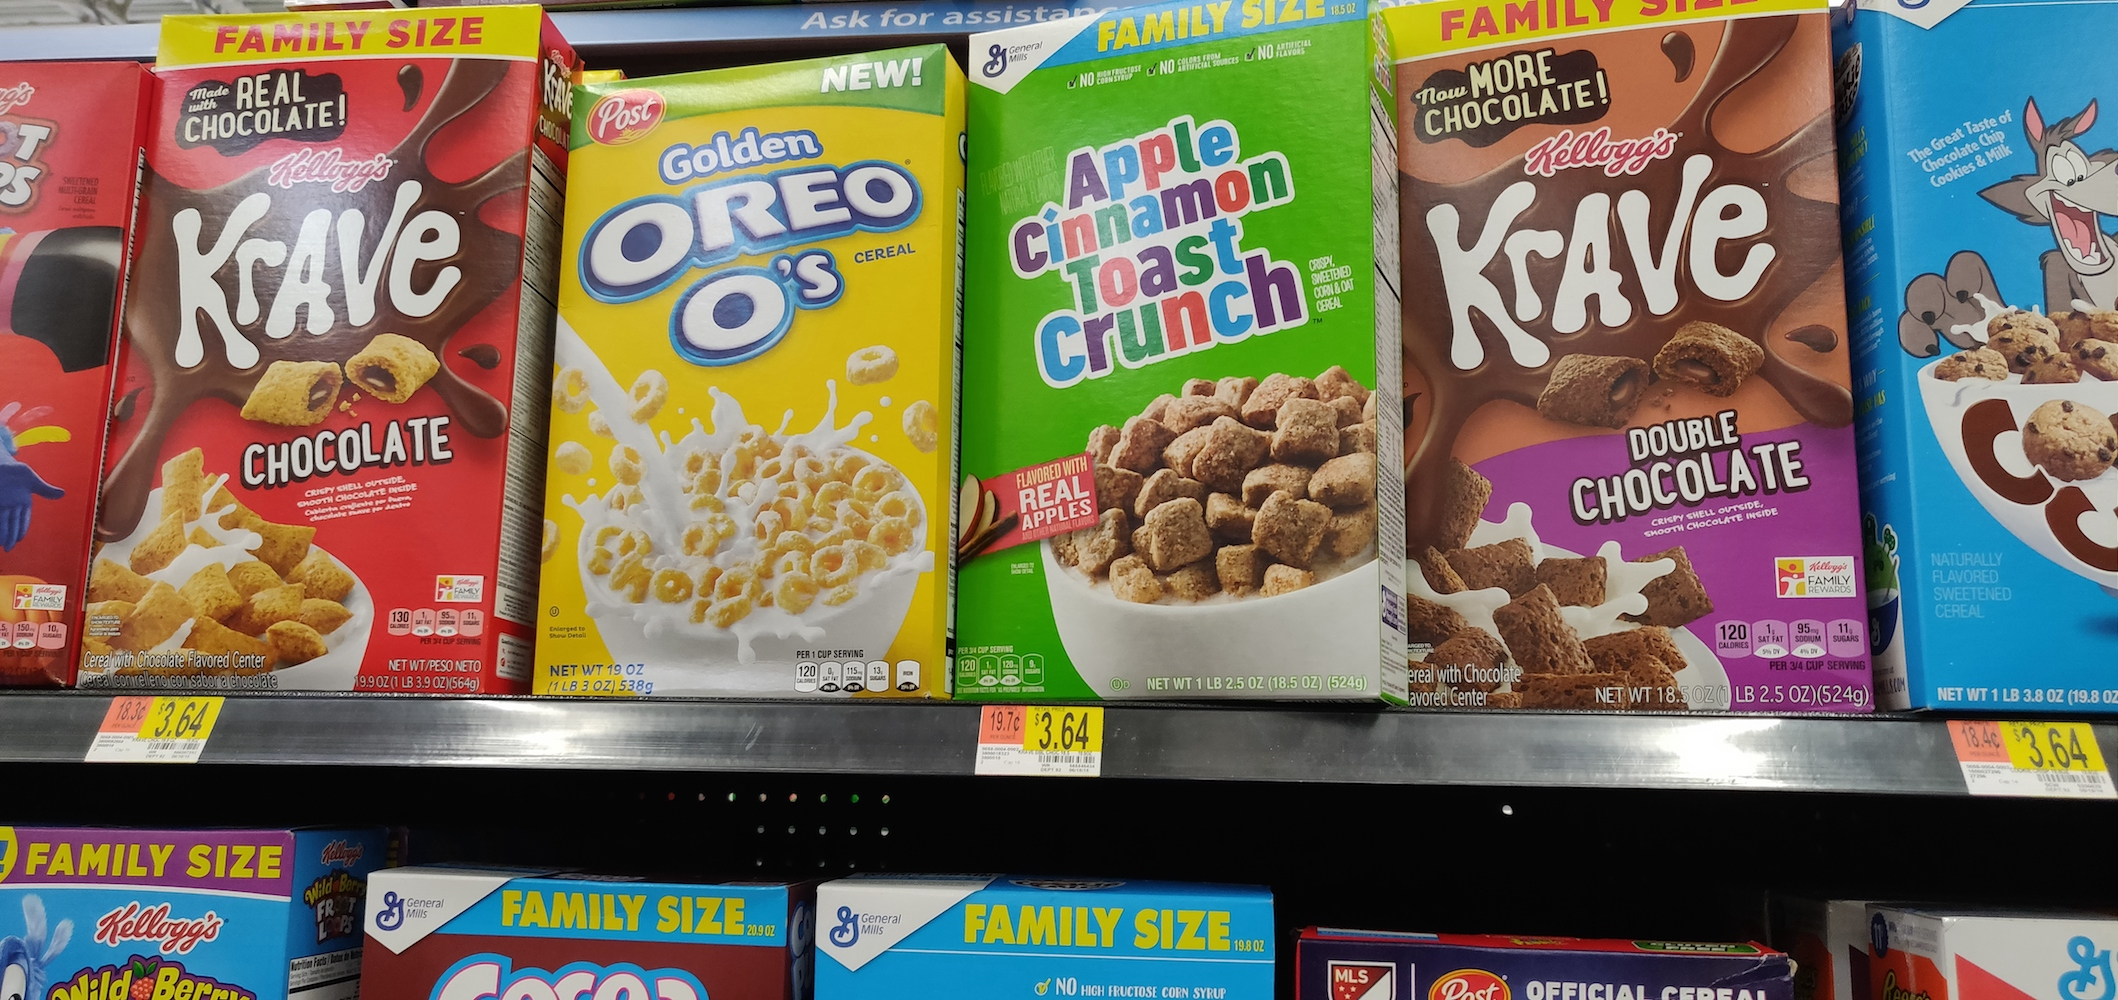Oreo Golden-568301011: (561, 68, 955, 696)
